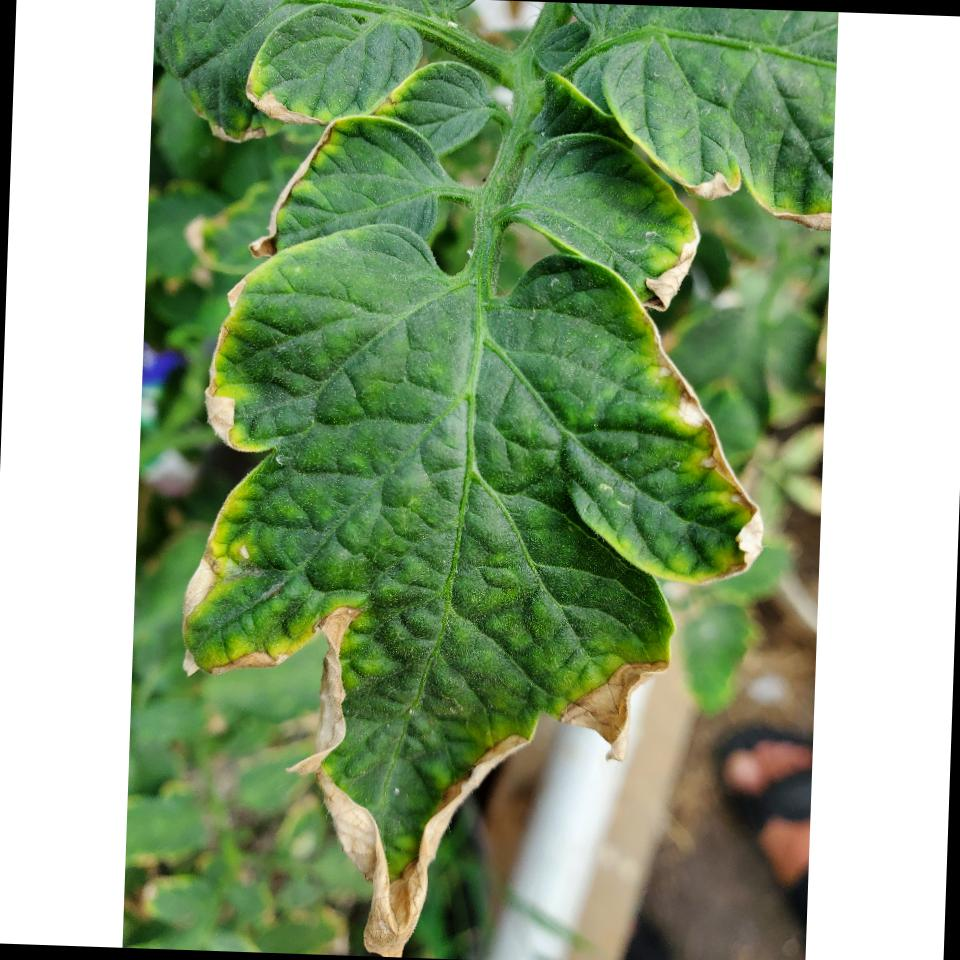tomato_bacterial_blight: (170, 250, 777, 960)
